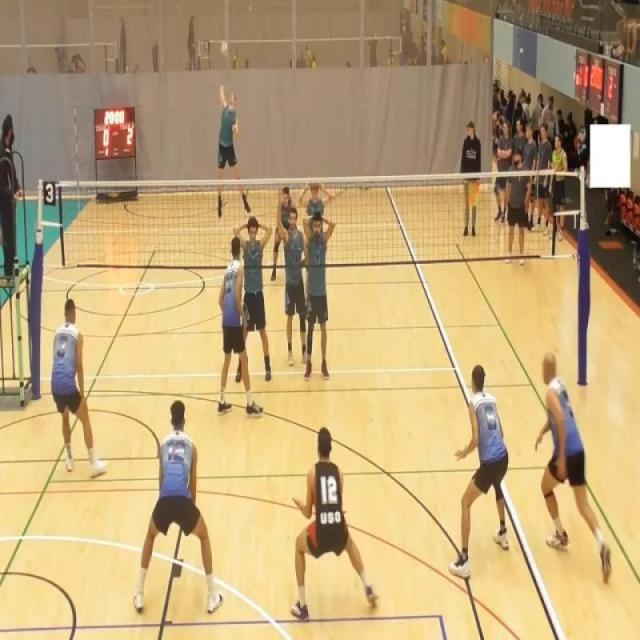volleyball: (220, 40, 229, 59), (248, 5, 253, 13)
